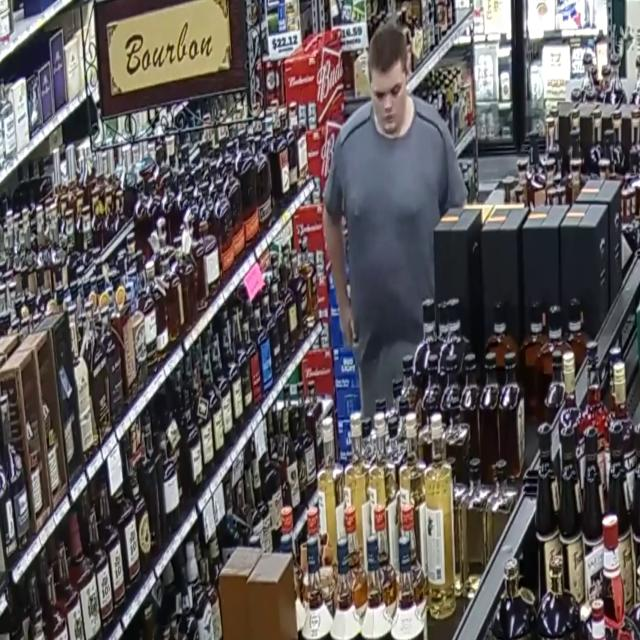normal: (294, 0, 469, 446)
